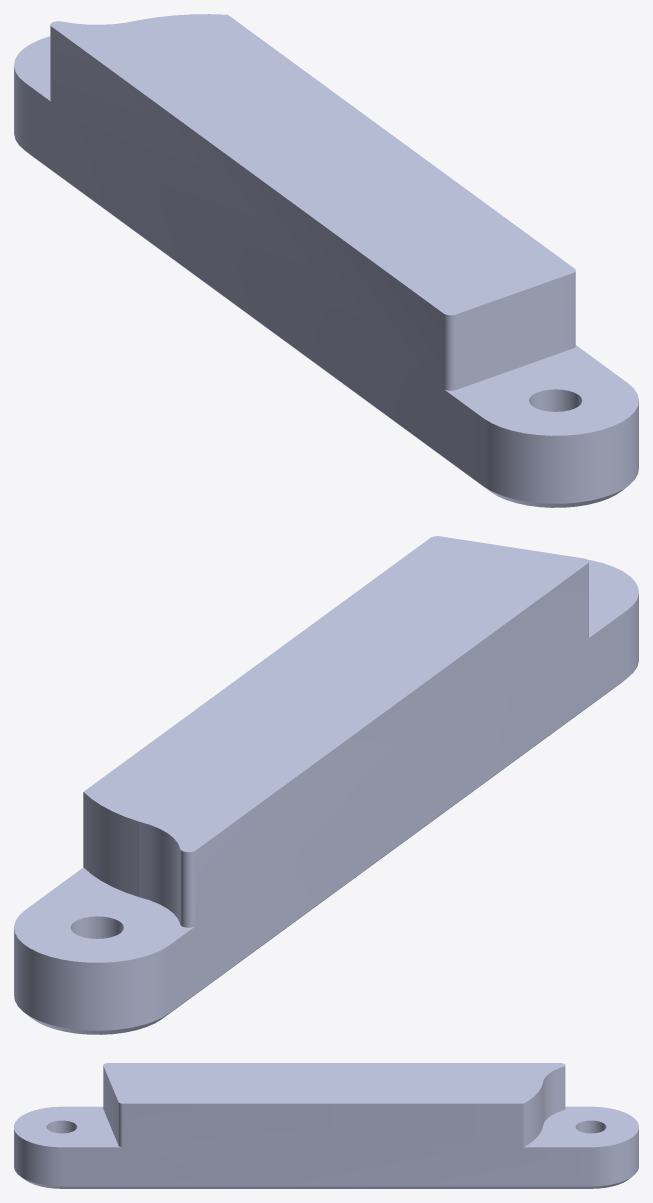
3 views of the same model, one above another, from view 1: azimuth 30°, elevation 25°; view 2: azimuth 150°, elevation 25°; view 3: azimuth 270°, elevation 25° (orthographic). The views are drawn at different scales.
Parts seen in each view (by area): view 1: node0; view 2: node0; view 3: node0.
Part boxes in pixels (bbox=[...]): node0: bbox=[14, 14, 638, 507]; node0: bbox=[14, 536, 638, 1034]; node0: bbox=[14, 1063, 638, 1188].
Size of the model in its own units: 0.01 by 0.01 by 0.065.
